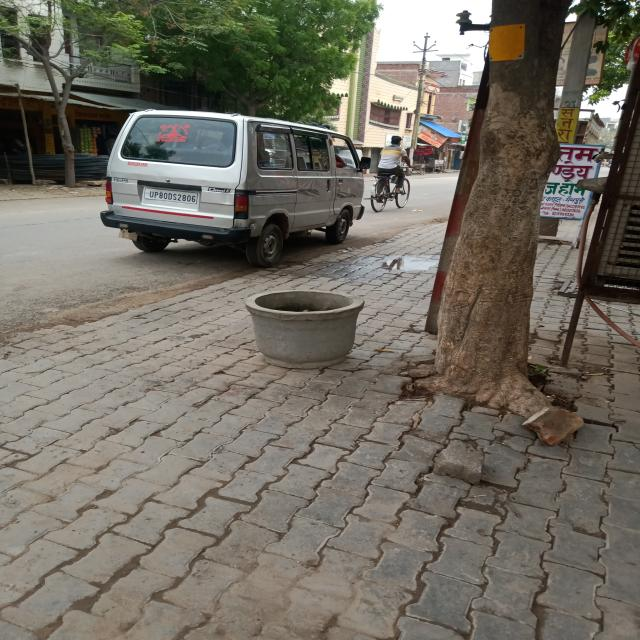Car: (100, 110, 367, 266)
